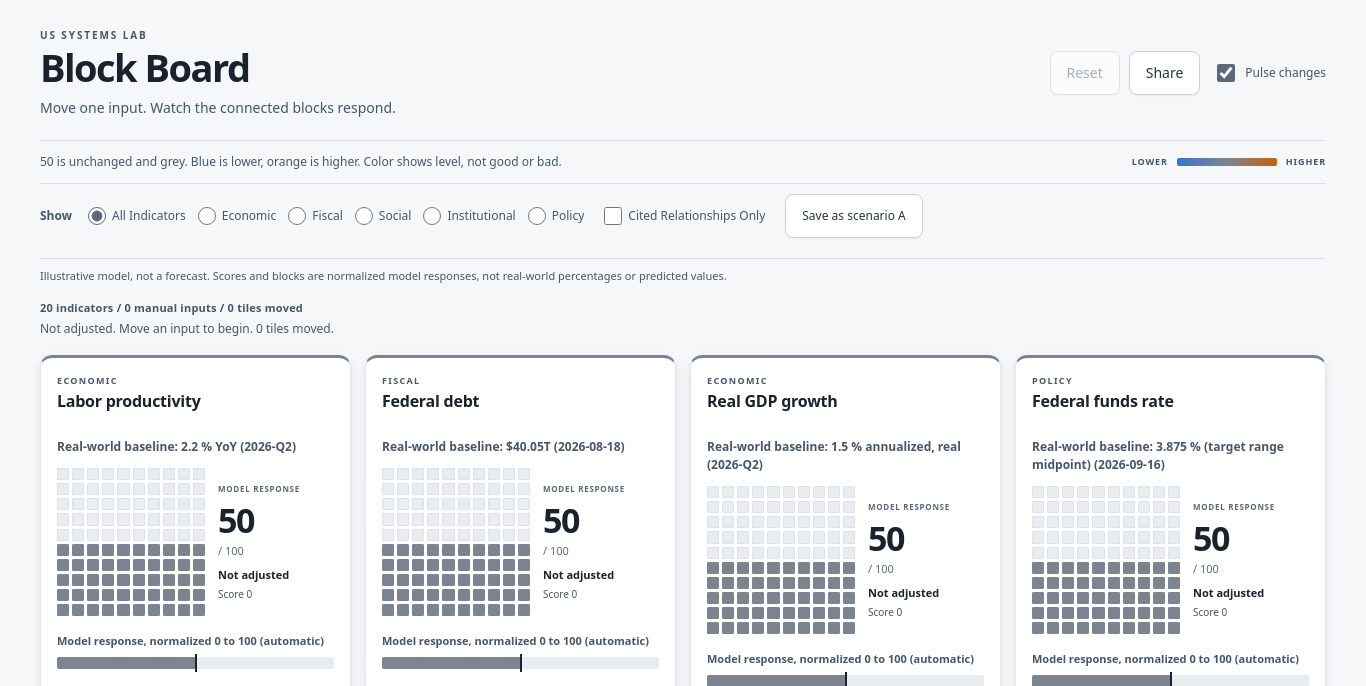
Test: share link copy › selects the link and says so when the browser has no clipboard
Click the button "Share": (1165, 73) [1129,51,1200,95]
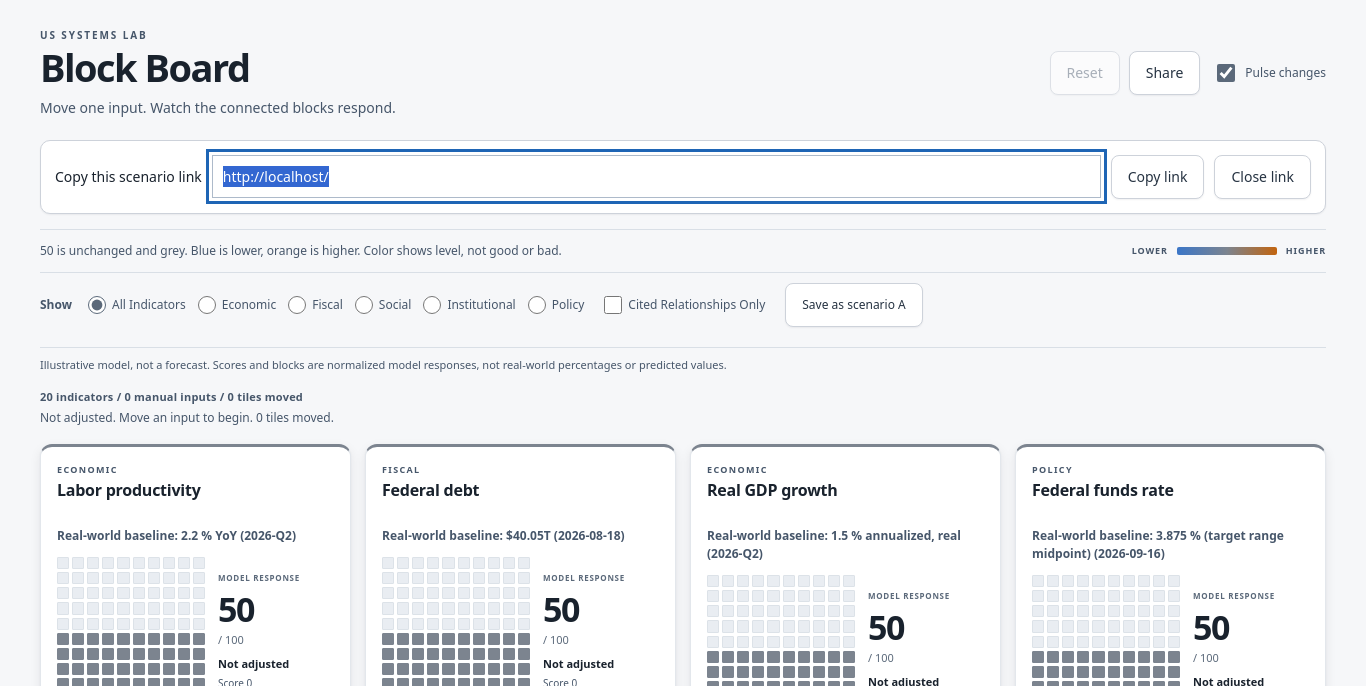
Click the button "Copy link": (1158, 177) [1111,155,1204,199]
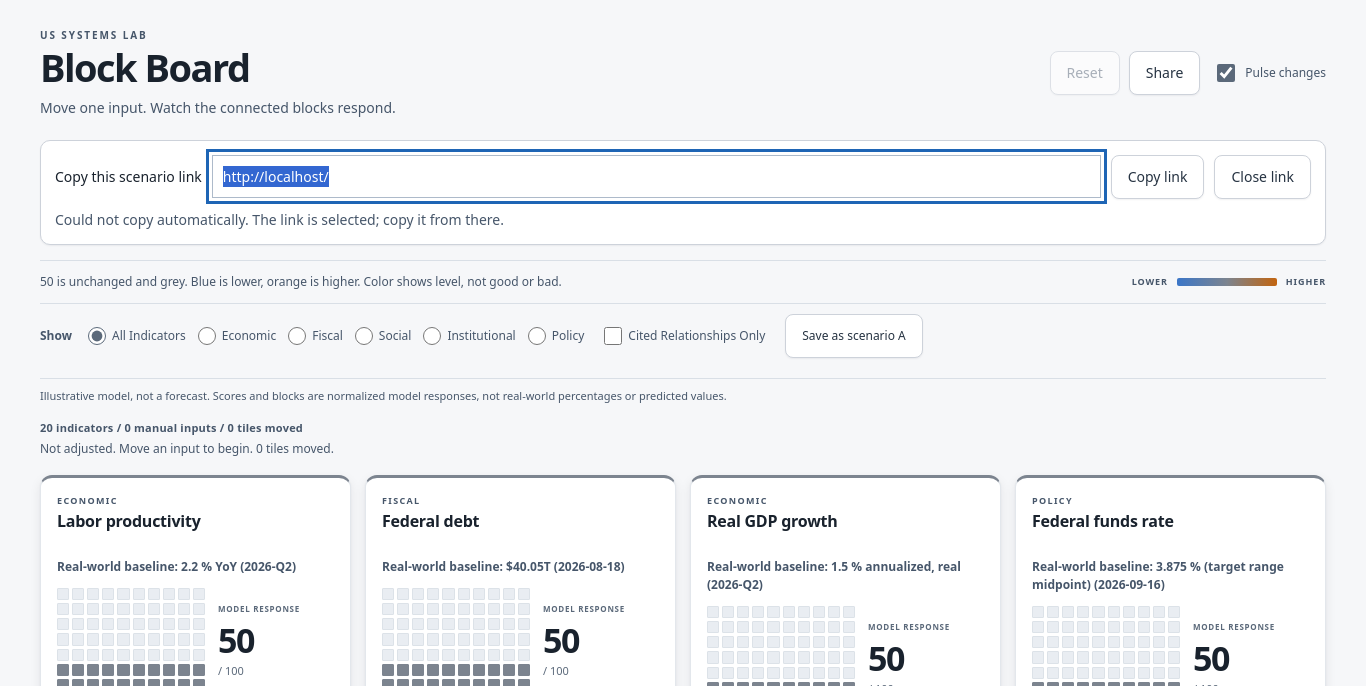
Expected: the message with class "bb-share-status" reads "Could not copy automatically. The link is selected; copy it from there.", [55,210,504,229]
